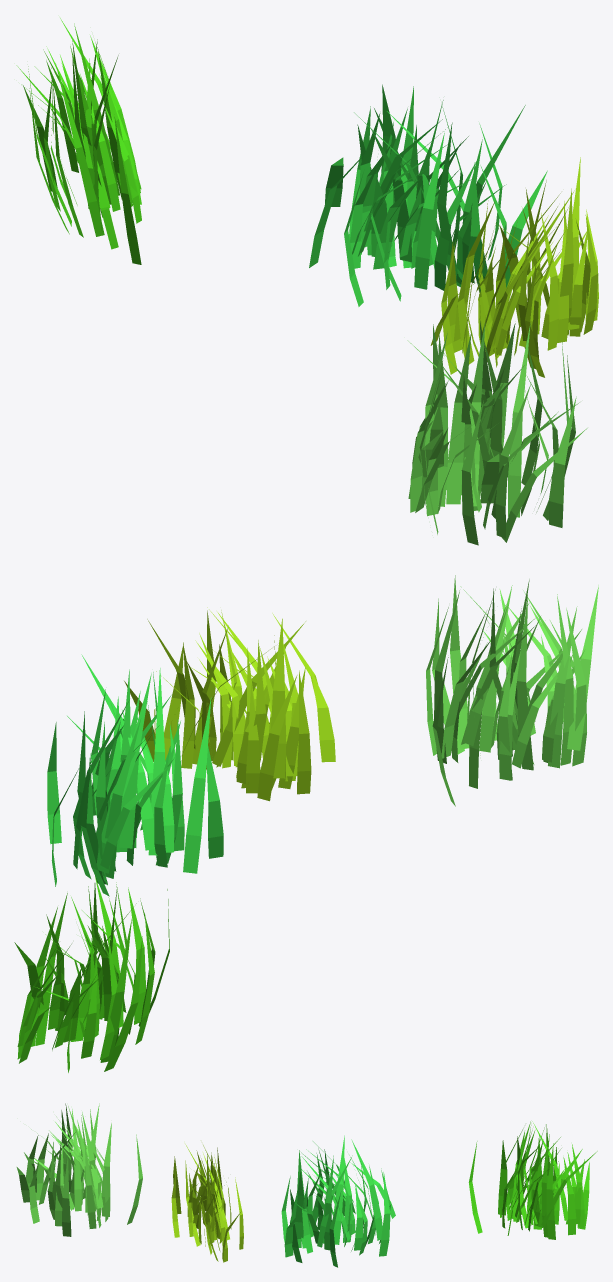
The model's file is GrassSample.fbx.
3 renders of one model, top to bottom at view 1: azimuth 30°, elevation 25°; view 2: azimuth 150°, elevation 25°; view 3: azimuth 270°, elevation 25°, orthographic. The views are drawn at different scales.
Parts seen in each view (by area): view 1: Grass 1, Grass 4, Grass 3, Grass 2; view 2: Grass 4, Grass 1, Grass 3, Grass 2; view 3: Grass 1, Grass 4, Grass 2, Grass 3.
Part boxes in pixels (x1,y1,x2,y2): Grass 1: [309, 84, 547, 306]; Grass 4: [407, 319, 587, 545]; Grass 3: [430, 157, 598, 377]; Grass 2: [16, 18, 141, 264]; Grass 4: [426, 575, 598, 806]; Grass 1: [47, 654, 223, 896]; Grass 3: [124, 607, 335, 801]; Grass 2: [14, 876, 169, 1072]; Grass 1: [281, 1135, 395, 1267]; Grass 4: [16, 1103, 142, 1236]; Grass 2: [468, 1121, 597, 1239]; Grass 3: [171, 1144, 243, 1262].
Bounding box in the file's own units: 1611 × 1086 × 4325.
